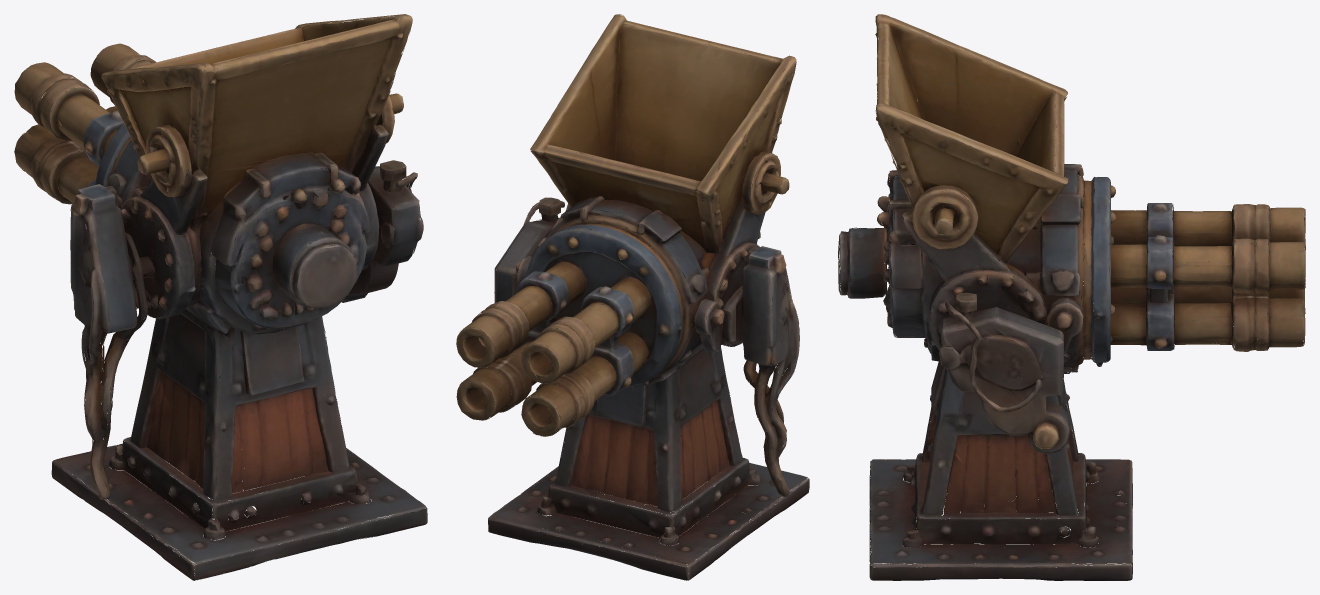
The model's file is cf_crop_hopper.glb.
3 views of the same model, side by side, from view 1: azimuth 30°, elevation 25°; view 2: azimuth 150°, elevation 25°; view 3: azimuth 270°, elevation 25° (orthographic). The views are drawn at different scales.
Parts seen in each view (by area): view 1: gun, base, spin0; view 2: gun, base, spin0; view 3: gun, base, spin0.
Boxes of the visible parts, <box> form: gun: <box>27,14,423,432</box>; base: <box>51,253,427,580</box>; spin0: <box>14,43,156,204</box>; gun: <box>494,14,799,450</box>; base: <box>488,332,809,580</box>; spin0: <box>456,271,650,436</box>; gun: <box>838,14,1303,452</box>; base: <box>869,319,1132,580</box>; spin0: <box>1110,203,1305,350</box>.
Size of the model in its own units: 1.32 by 2 by 1.81.
Materials: 1 (1 with a texture image).
